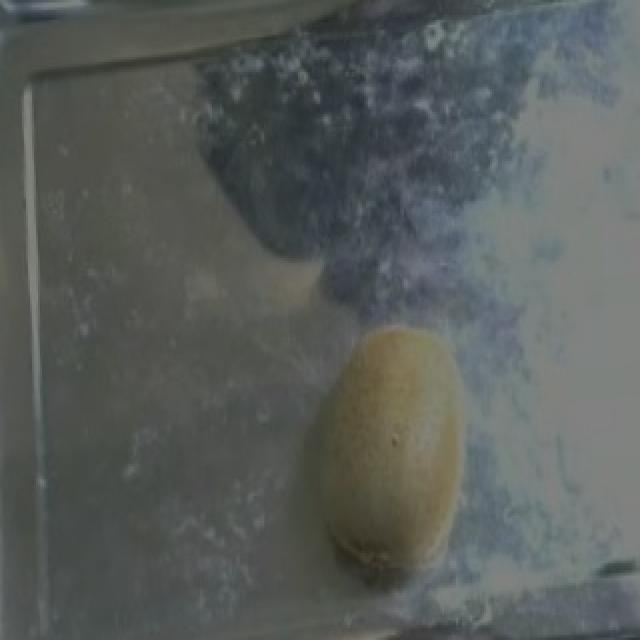Fruit: (286, 300, 494, 586)
